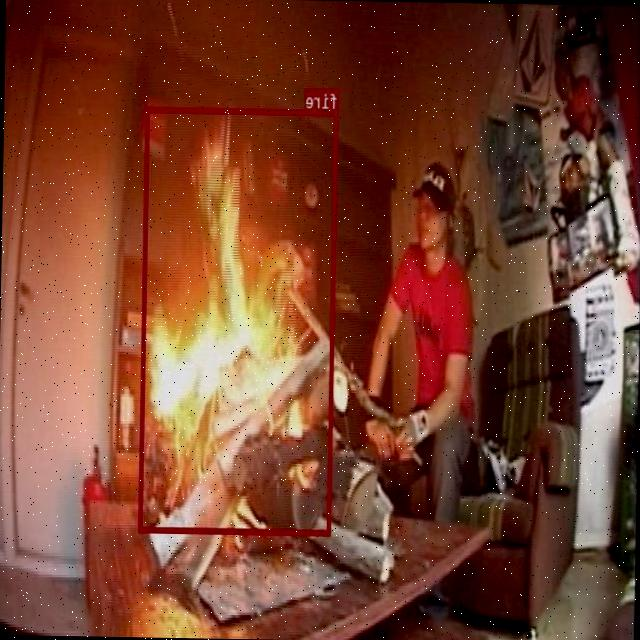fire: (140, 105, 338, 534)
